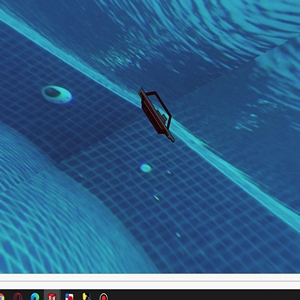submarine: (137, 90, 178, 142)
